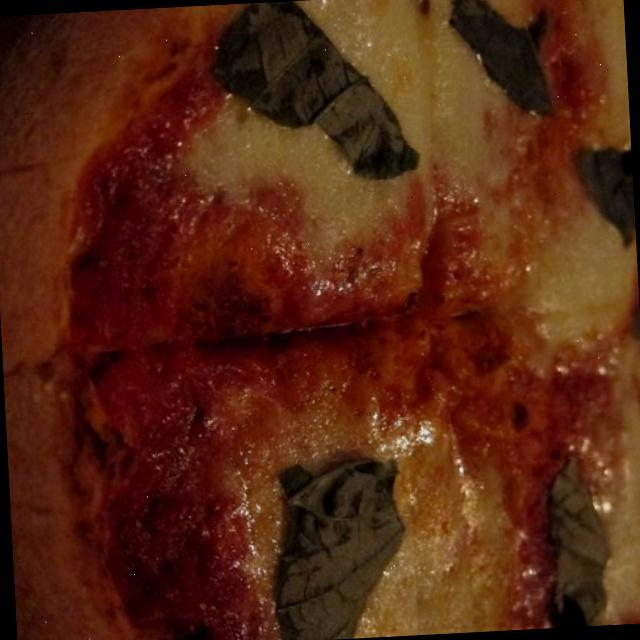basil: (210, 0, 424, 193), (247, 442, 417, 640), (526, 456, 633, 629), (441, 0, 562, 129), (563, 144, 637, 258)
cheese: (408, 434, 512, 632), (219, 161, 404, 267), (512, 218, 625, 378), (416, 40, 462, 121)
